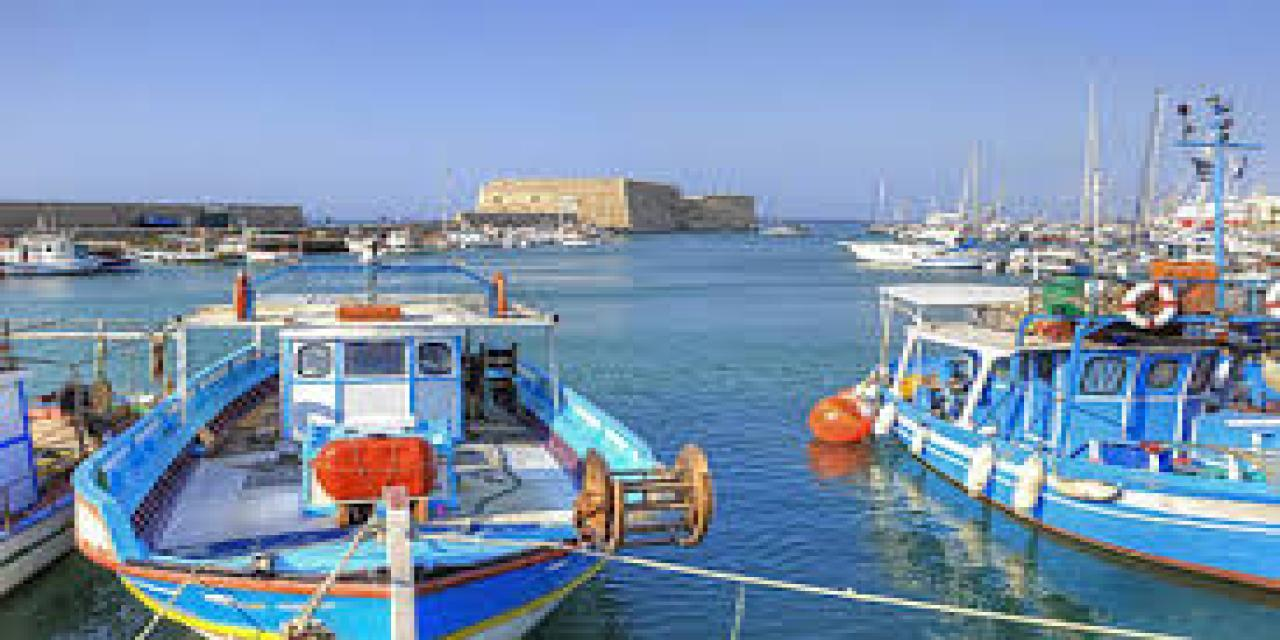Kules: (481, 178, 758, 235)
